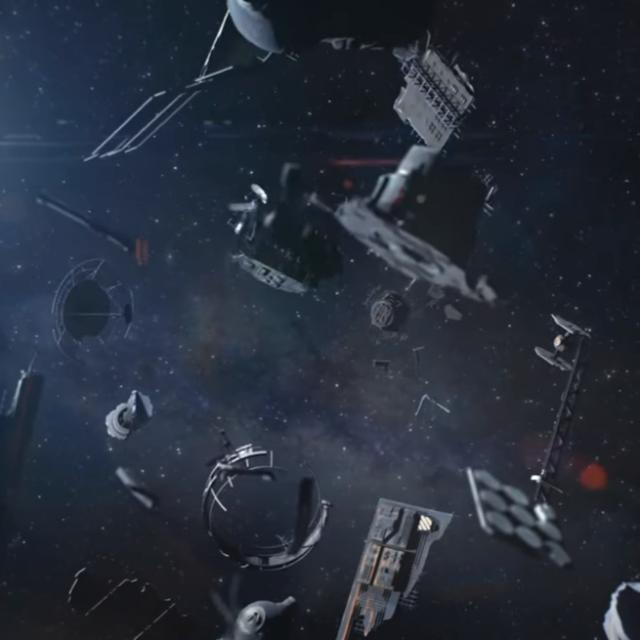large_debris: (304, 30, 513, 338), (454, 288, 616, 574), (74, 0, 293, 179), (17, 188, 158, 368), (185, 428, 342, 584), (337, 499, 454, 640), (206, 190, 315, 310), (100, 384, 161, 529), (202, 598, 312, 640), (600, 570, 640, 640)
